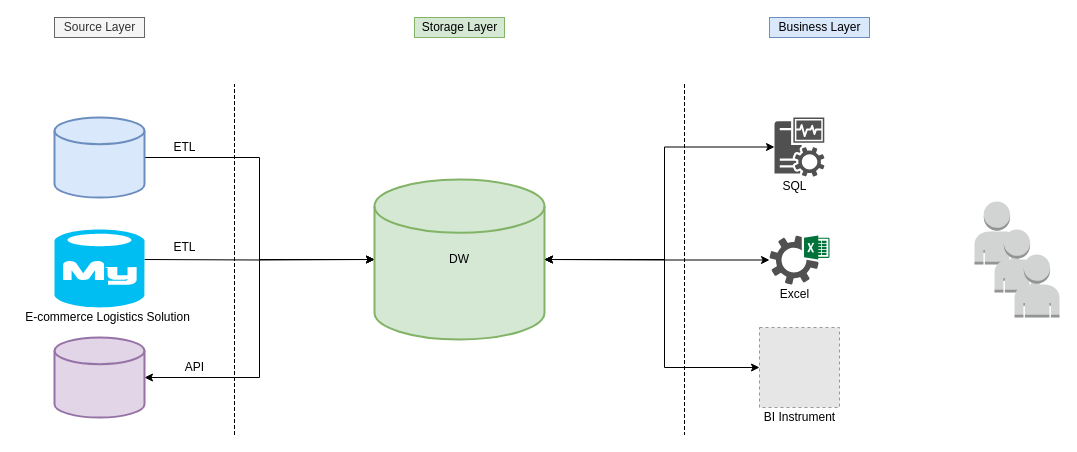
The diagram is 1077 pixels wide and 452 high, and some of its shapes have lost their labels. Grey dashed boxes stand in for pictures. Each missing label, with the centre of its shape:
1C DB: (99,157)
Tracking system: (99,377)
